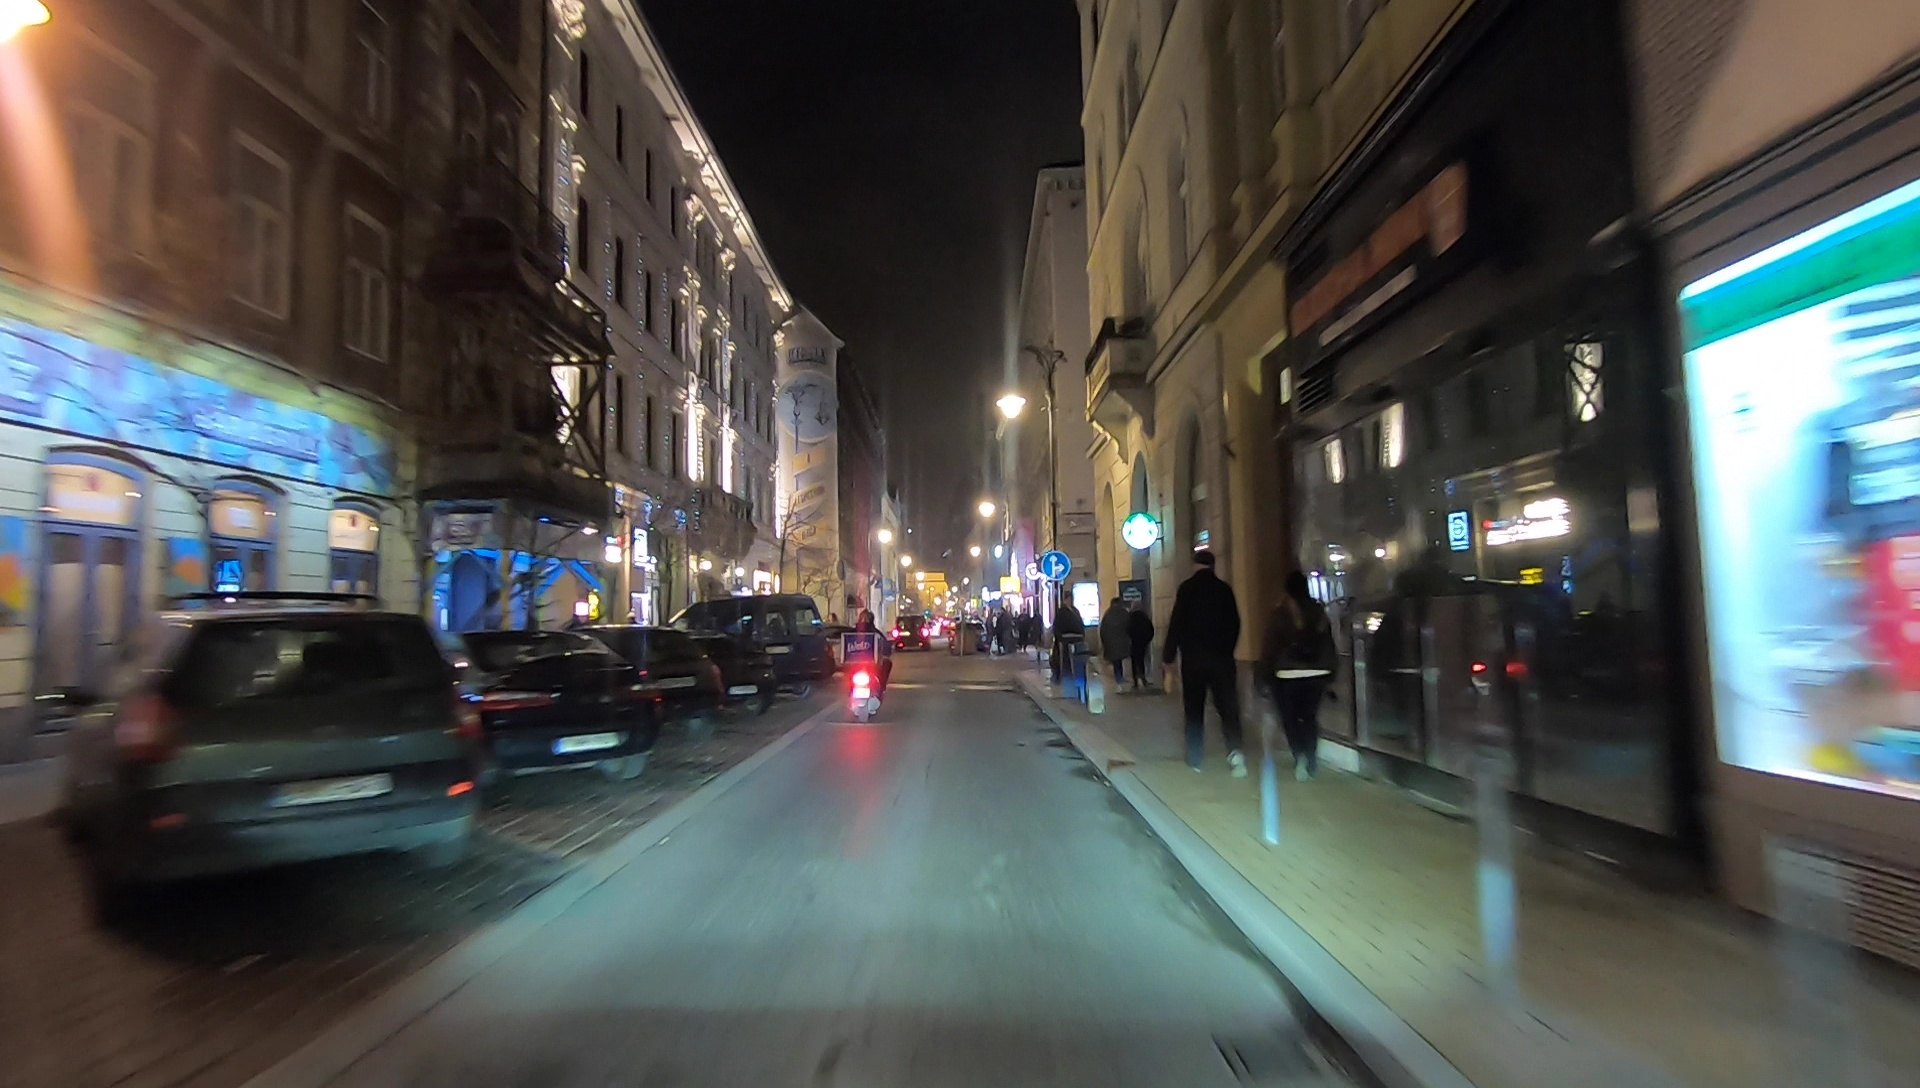person: (1171, 545, 1251, 771), (1265, 565, 1334, 780), (1101, 595, 1130, 684), (1128, 602, 1156, 686), (1058, 589, 1084, 667)
